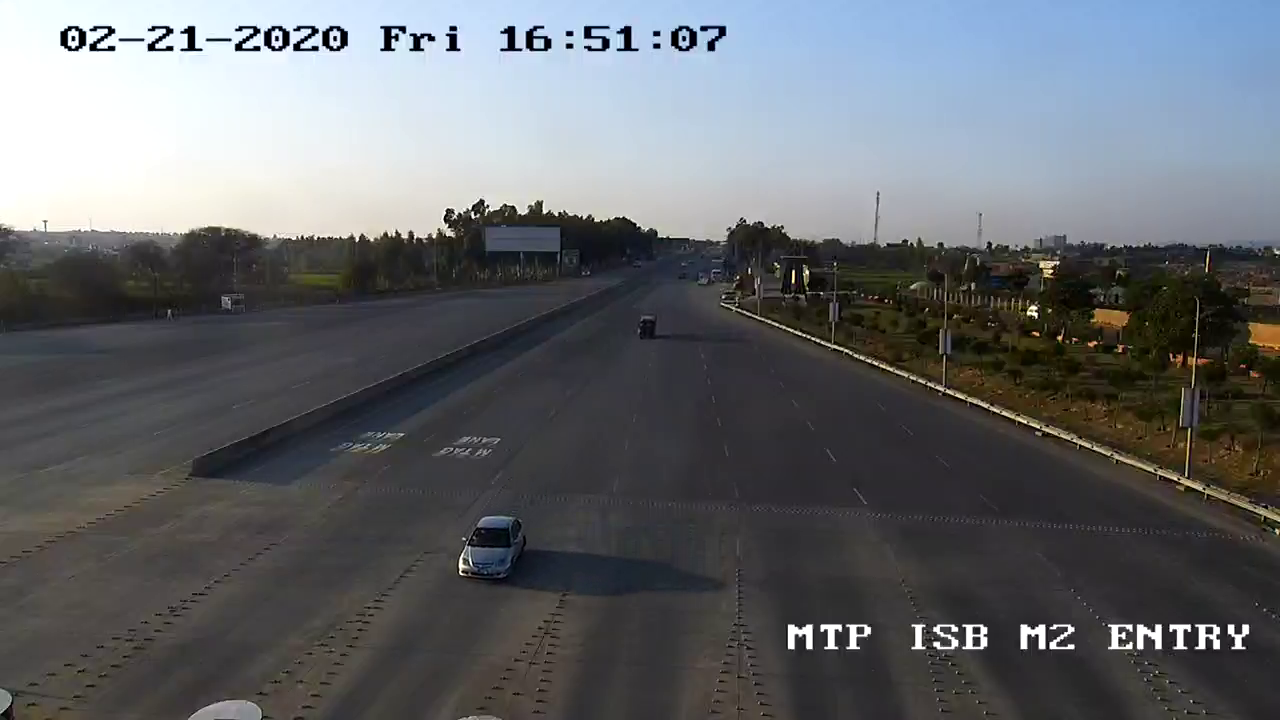f1: (440, 506, 539, 595)
